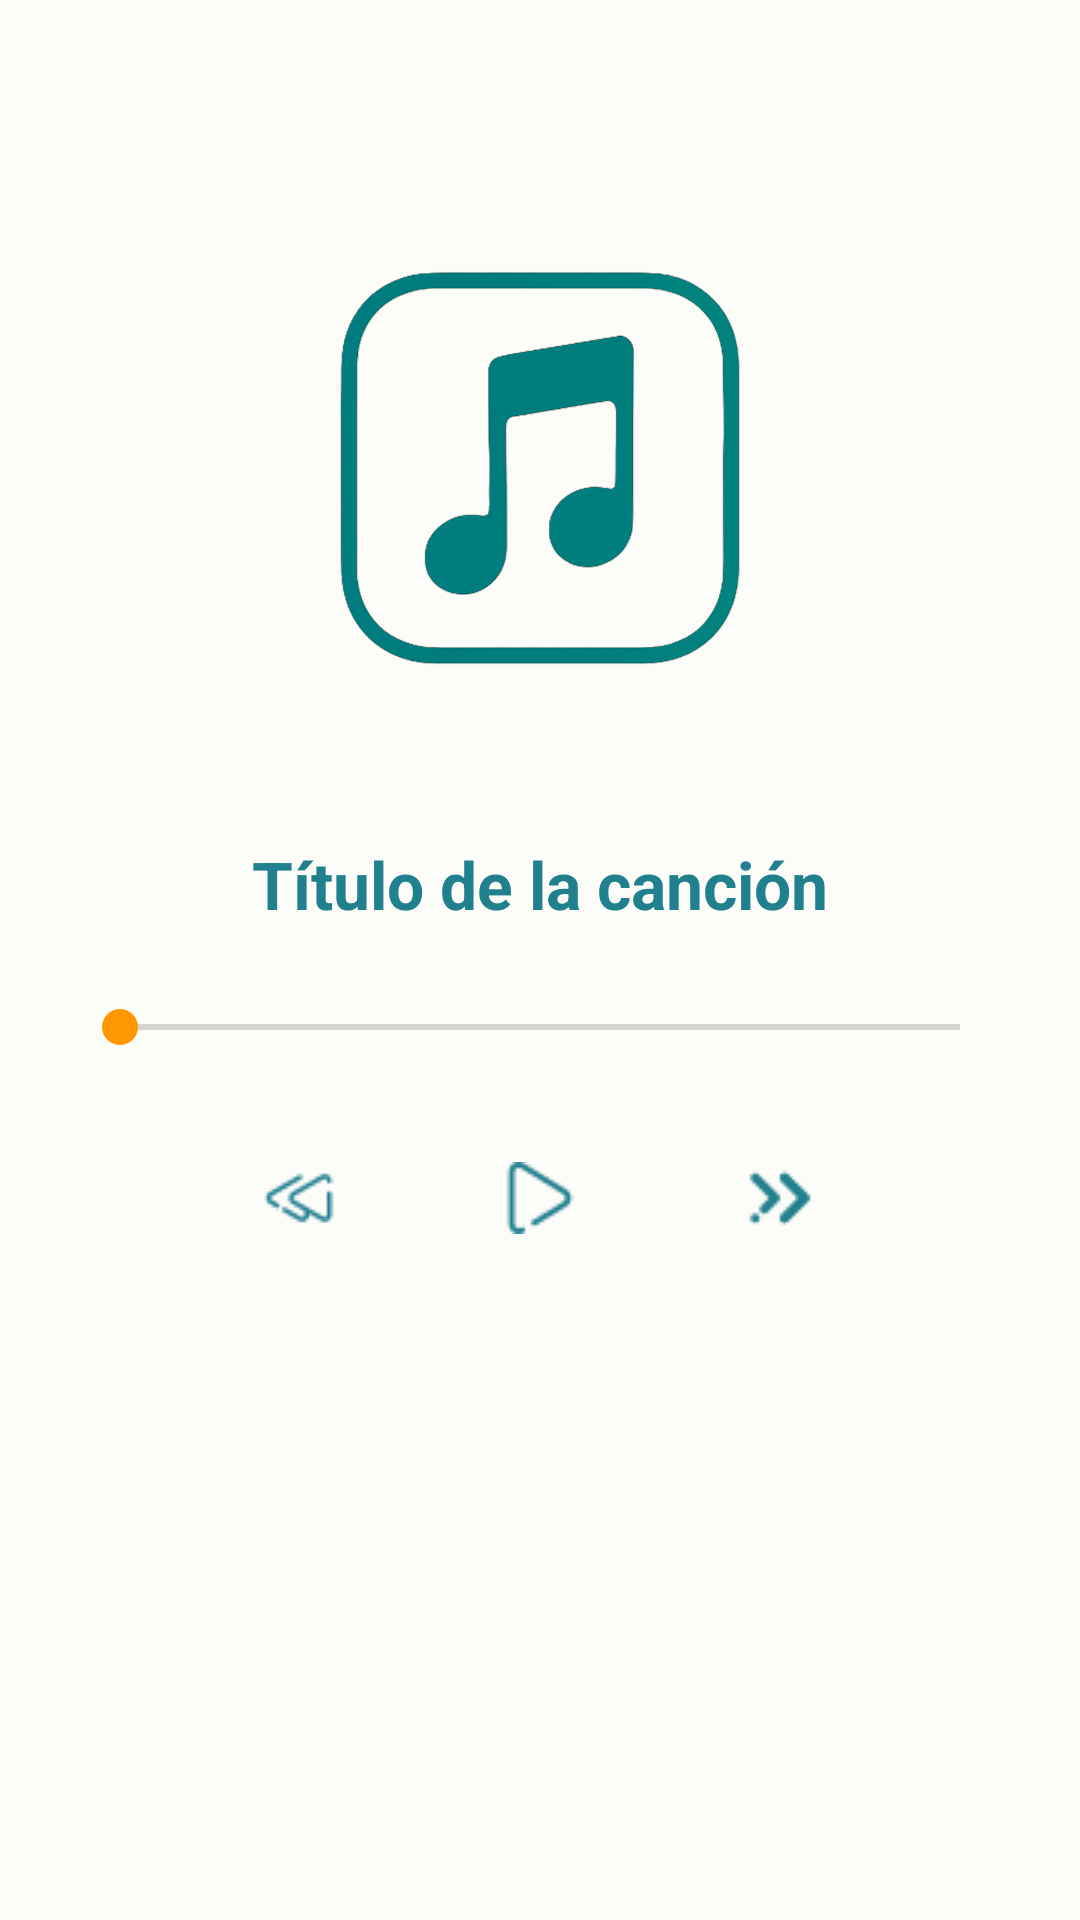

Icon click points for this 1080 x 1920 phone screenshot, format (x,y):
next: (780,1198)
play: (539,1198)
prev: (299,1198)
